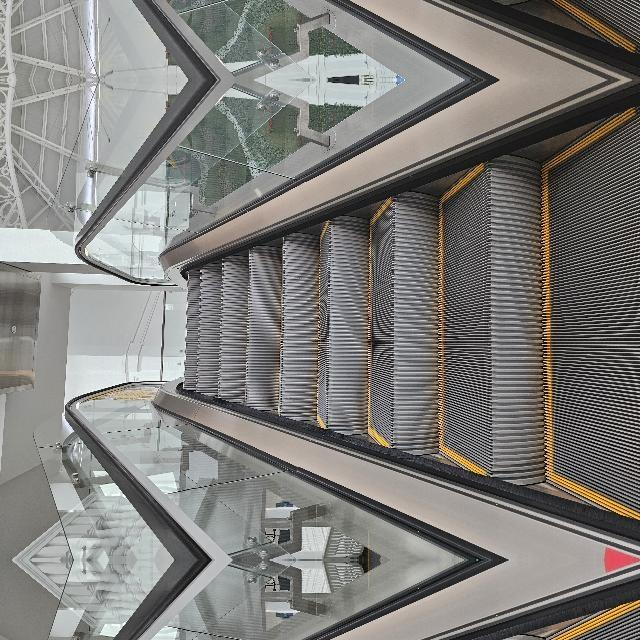stair: (38, 243, 459, 640), (38, 403, 459, 640)
